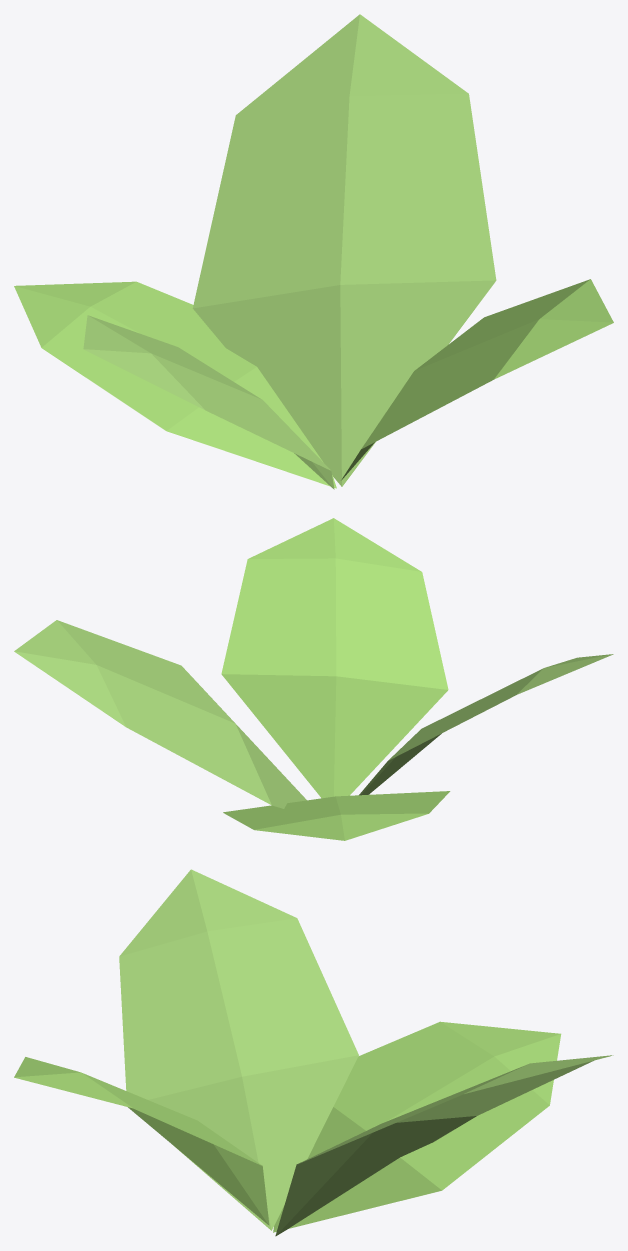
File: Plant_h_TwoS_04.fbx
3 views of the same model, one above another, from view 1: azimuth 30°, elevation 25°; view 2: azimuth 150°, elevation 25°; view 3: azimuth 270°, elevation 25° (orthographic). The views are drawn at different scales.
Visible parts, largest first — view 1: Plant_h_TwoS_04; view 2: Plant_h_TwoS_04; view 3: Plant_h_TwoS_04.
Part boxes in pixels (<box>): Plant_h_TwoS_04: <box>14,14,613,489</box>; Plant_h_TwoS_04: <box>14,518,613,840</box>; Plant_h_TwoS_04: <box>14,869,613,1236</box>.
Size of the model in its own units: 0.3715 by 0.1948 by 0.3889.
